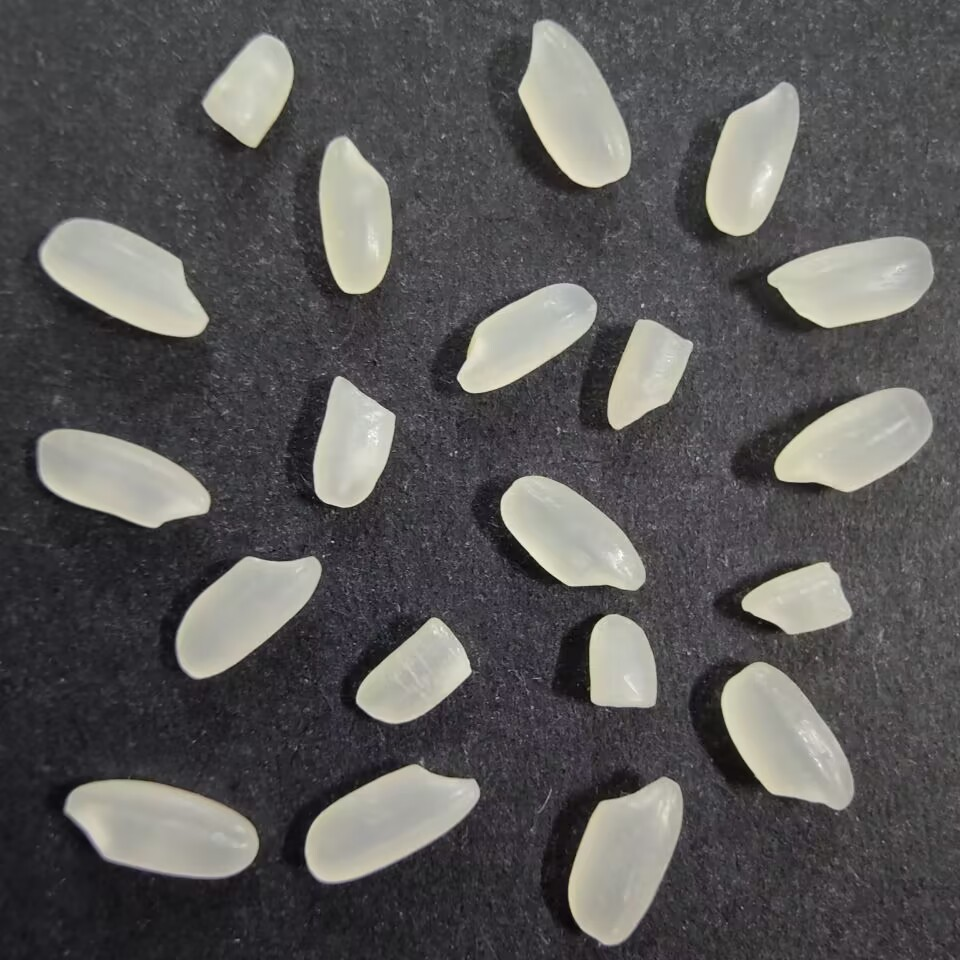broken: (354, 614, 471, 730), (196, 30, 301, 154), (308, 374, 398, 510), (603, 315, 697, 435), (735, 557, 859, 638), (583, 611, 659, 712)
rice: (300, 763, 487, 886), (39, 216, 213, 342), (61, 775, 262, 881), (173, 550, 328, 686), (720, 661, 859, 812), (565, 774, 686, 947), (514, 14, 631, 191), (34, 426, 214, 533), (498, 475, 650, 599), (768, 382, 935, 492), (452, 281, 599, 396), (763, 234, 937, 329), (703, 79, 802, 239), (315, 133, 396, 299)
